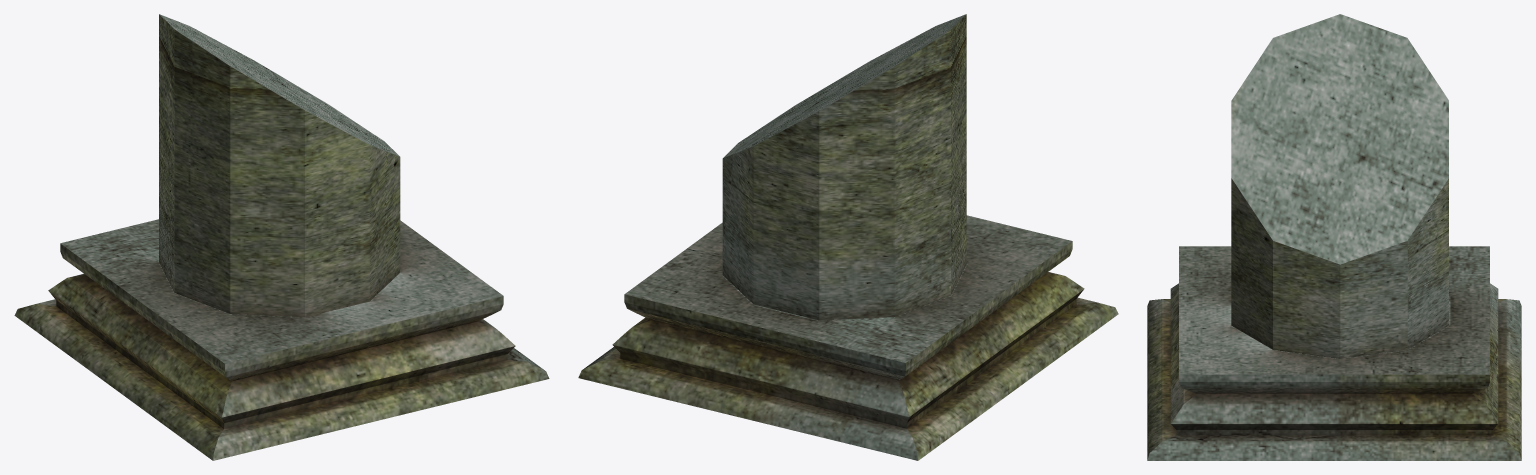
Rendered from BrokenColumn.FBX.
The picture shows the model from 3 angles, left to right: view 1: azimuth 30°, elevation 25°; view 2: azimuth 150°, elevation 25°; view 3: azimuth 270°, elevation 25°; orthographic projection. The views are drawn at different scales.
Visible parts, largest first — view 1: BrokenColumn; view 2: BrokenColumn; view 3: BrokenColumn.
Part boxes in pixels (<box>): BrokenColumn: <box>14,14,549,460</box>; BrokenColumn: <box>578,14,1118,460</box>; BrokenColumn: <box>1147,14,1521,460</box>.
Size of the model in its own units: 27.53 by 26.67 by 28.14.
